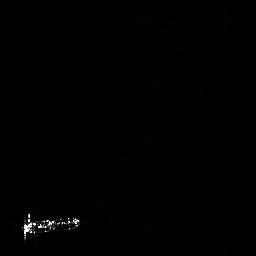ship: (17, 208, 83, 243)
